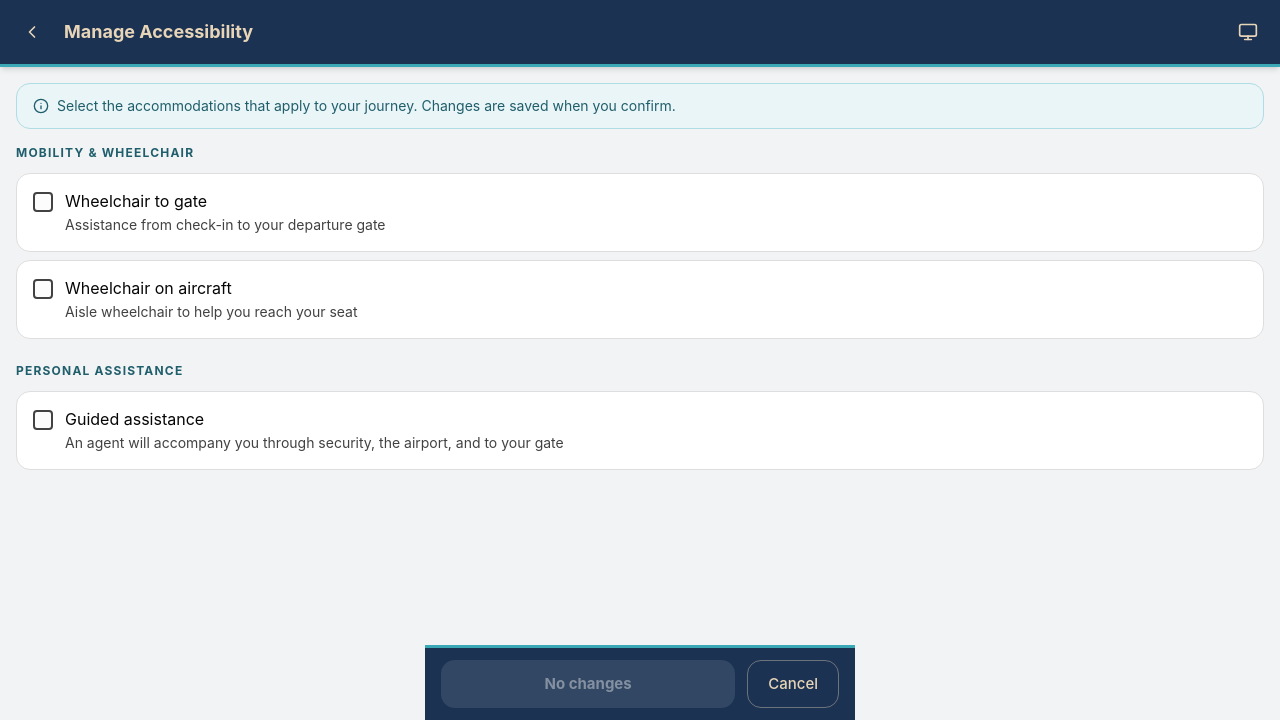
Manage Accessibility page › toggles an option off after selecting it
Note: Select it first
Click the checkbox "Wheelchair to gate" at (136, 201), box [16,173,1264,252]
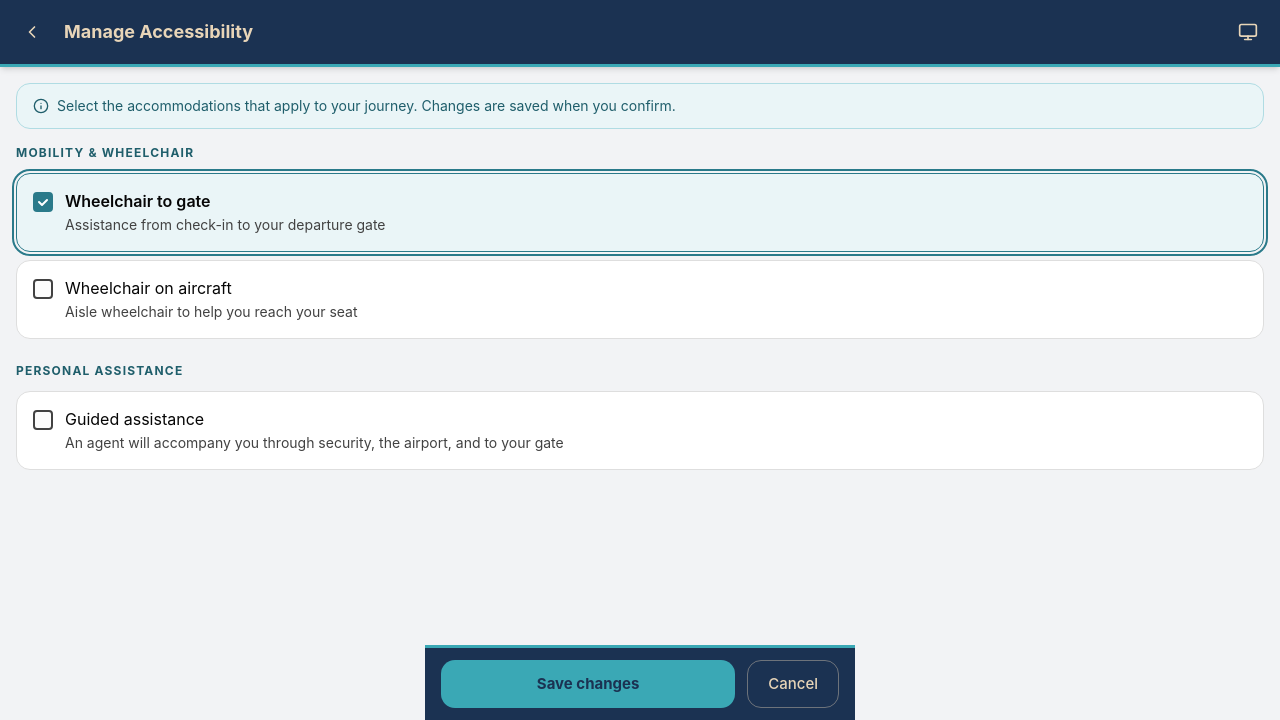
Check: the button "Save changes" is enabled, box [441,660,735,708]
Note: Deselect it again
Click the checkbox "Wheelchair to gate" at (138, 201), box [16,173,1264,252]
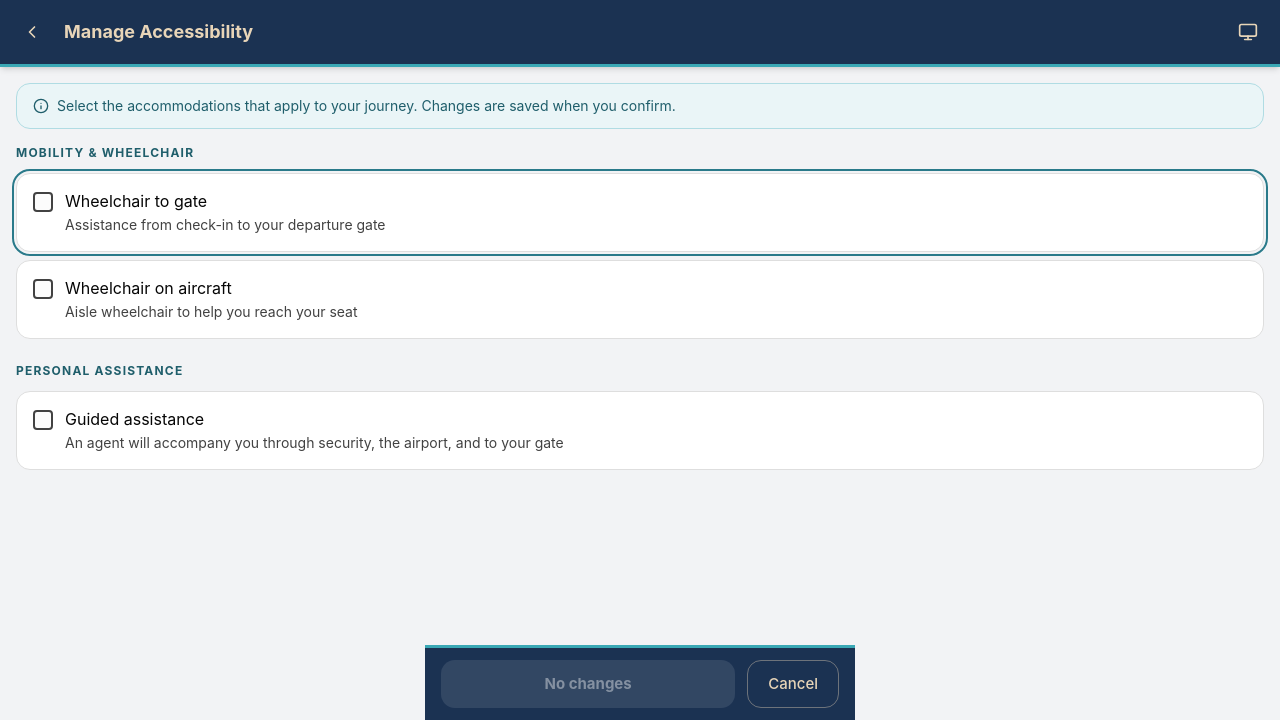
Check: the button "No changes" is disabled, box [441,660,735,708]
